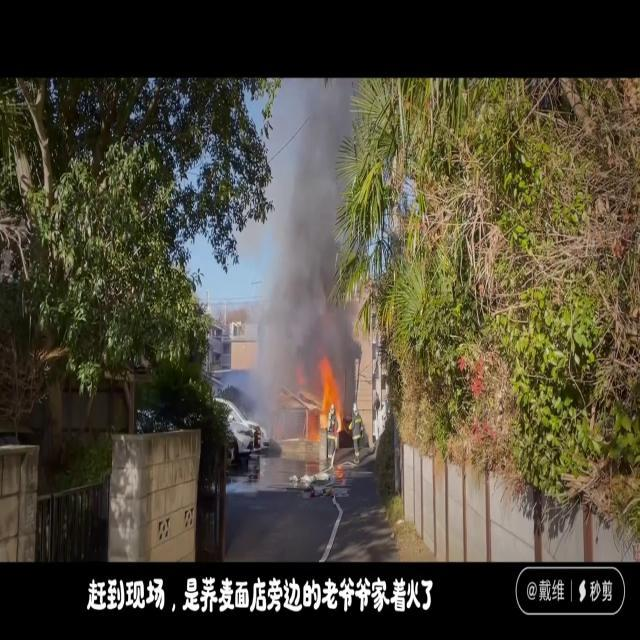Fire: (312, 349, 346, 444)
Smoke: (244, 79, 362, 432)
